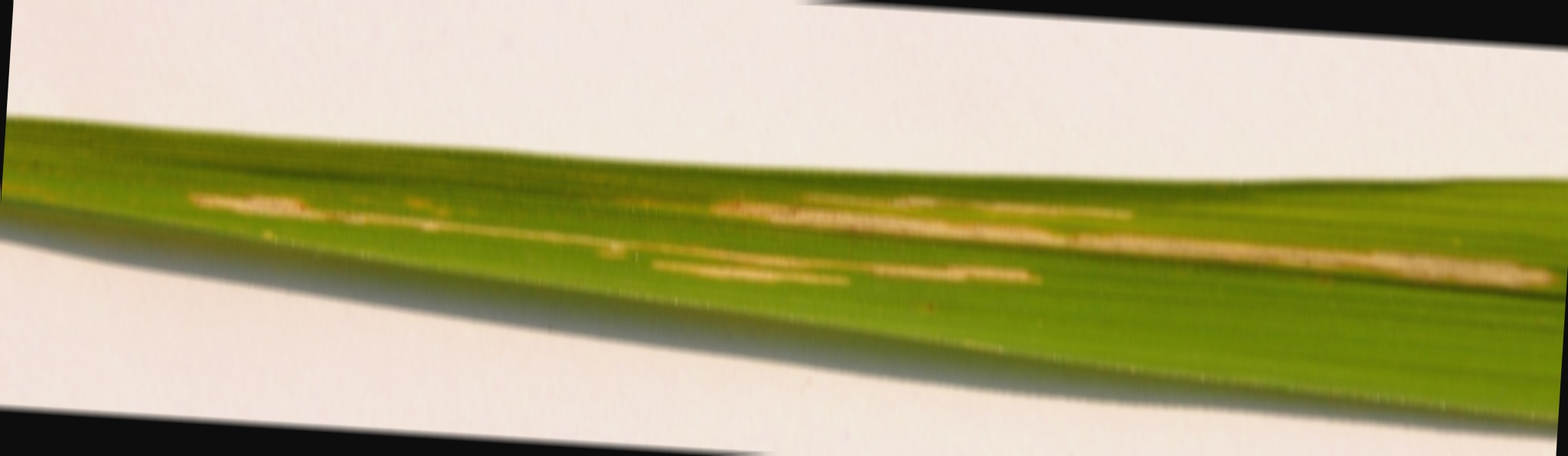Leaf_Blast: (127, 168, 1545, 308)
